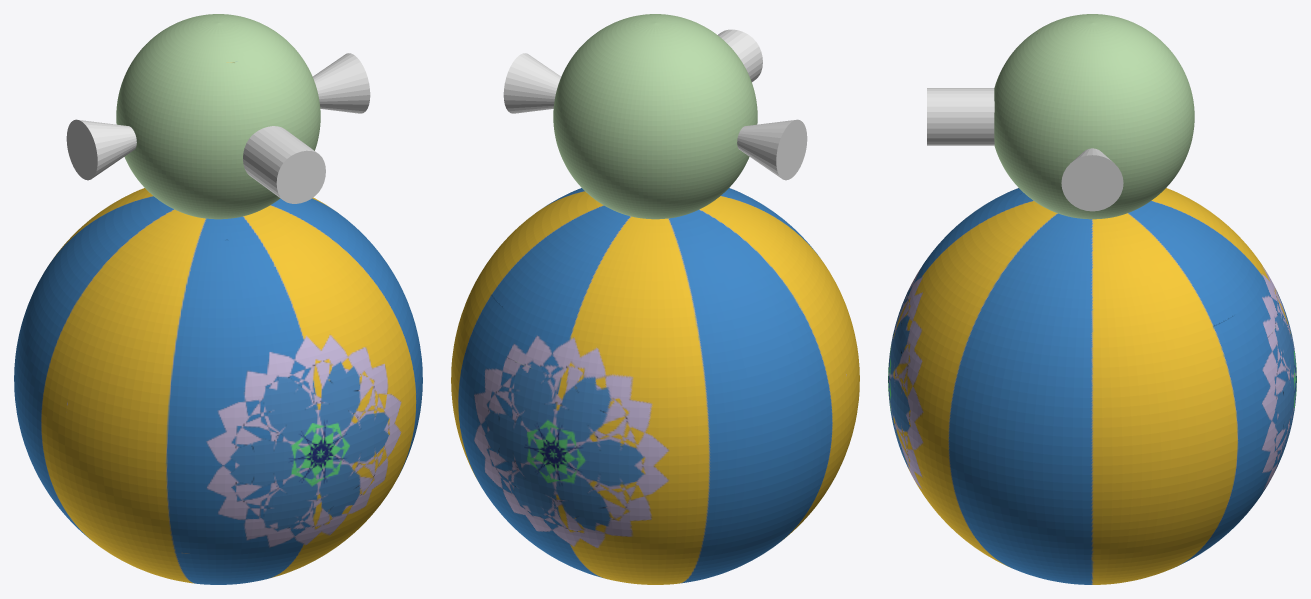
Rendered from BOD0_BMC8_BCC6_BPT2_FRC11_HEA0_HMC12_HCC14_HPT0_ELT3_ERT3_ELL0_ERL2_AP0_AAL2_AAR2_BEK1.fbx.
3 renders of one model, left to right at view 1: azimuth 30°, elevation 25°; view 2: azimuth 150°, elevation 25°; view 3: azimuth 270°, elevation 25°, orthographic.
Visible parts, largest first — view 1: Body, Beak, Ear, Ear.001; view 2: Body, Ear, Ear.001, Beak; view 3: Body, Beak, Ear.001.
Part boxes in pixels (left/top/right/bottom): Body: left=14, top=14, right=422, bottom=584; Beak: left=243, top=126, right=325, bottom=203; Ear: left=66, top=119, right=136, bottom=180; Ear.001: left=313, top=53, right=370, bottom=113; Body: left=451, top=14, right=859, bottom=584; Ear: left=737, top=119, right=807, bottom=180; Ear.001: left=503, top=53, right=560, bottom=113; Beak: left=718, top=29, right=762, bottom=81; Body: left=888, top=14, right=1296, bottom=584; Beak: left=927, top=88, right=994, bottom=145; Ear.001: left=1061, top=148, right=1123, bottom=211.
Size of the model in its own units: 49.36 by 72.41 by 49.36.
1 material, 1 textured.
